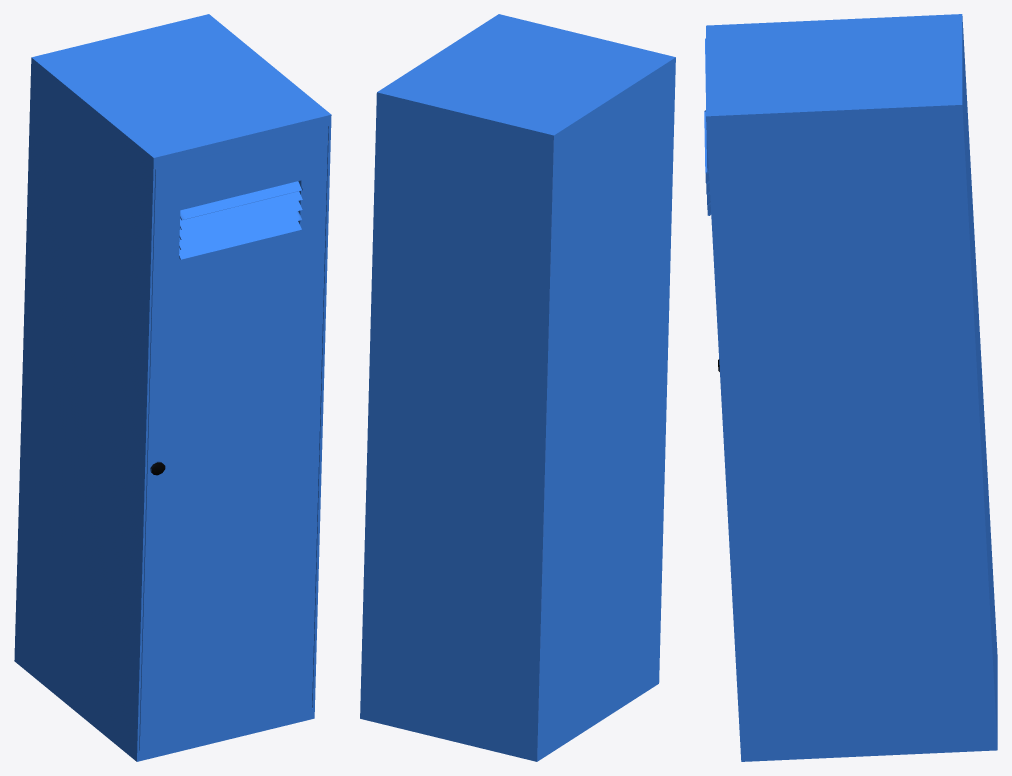
File: cabinet.fbx
3 renders of one model, left to right at view 1: azimuth 30°, elevation 25°; view 2: azimuth 150°, elevation 25°; view 3: azimuth 270°, elevation 25°, orthographic. The views are drawn at different scales.
Parts seen in each view (by area): view 1: hinge, metal; view 2: hinge; view 3: hinge.
Part boxes in pixels (x1=…): hinge: x1=14, y1=14, x2=331, y2=761; metal: x1=139, y1=126, x2=328, y2=750; hinge: x1=360, y1=14, x2=675, y2=761; hinge: x1=706, y1=14, x2=997, y2=761.
Bounding box in the file's own units: 55.32 × 187 × 75.54.
Materials: 2 (2 with a texture image).
